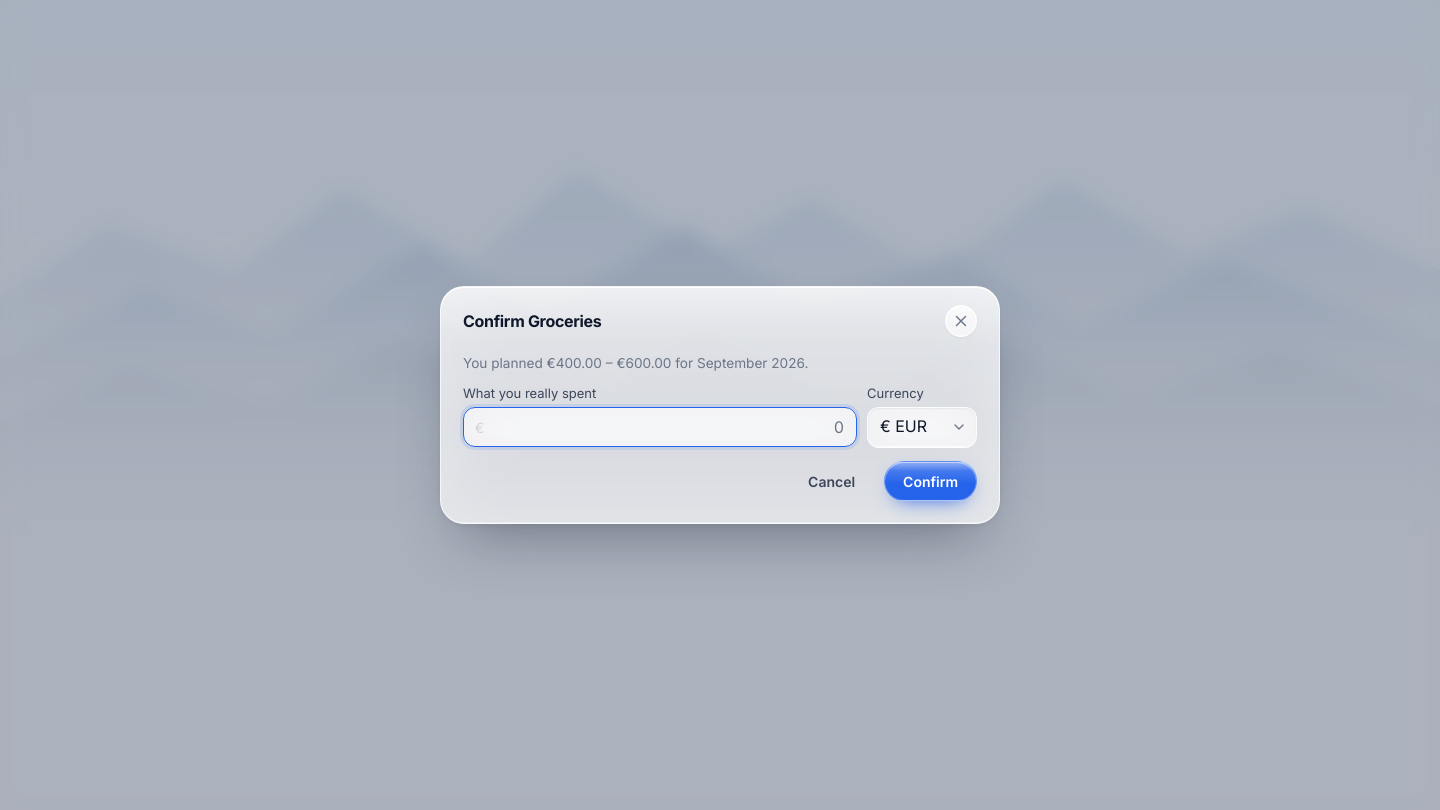
Test: ConfirmAmountModal › asks for an amount above zero before saving
The image size is (1440, 810).
What coordinates should you click on to do the following:
click the button "Confirm"
I would click on:
 (931, 481)
Its box is top-left (884, 461), bottom-right (977, 501).
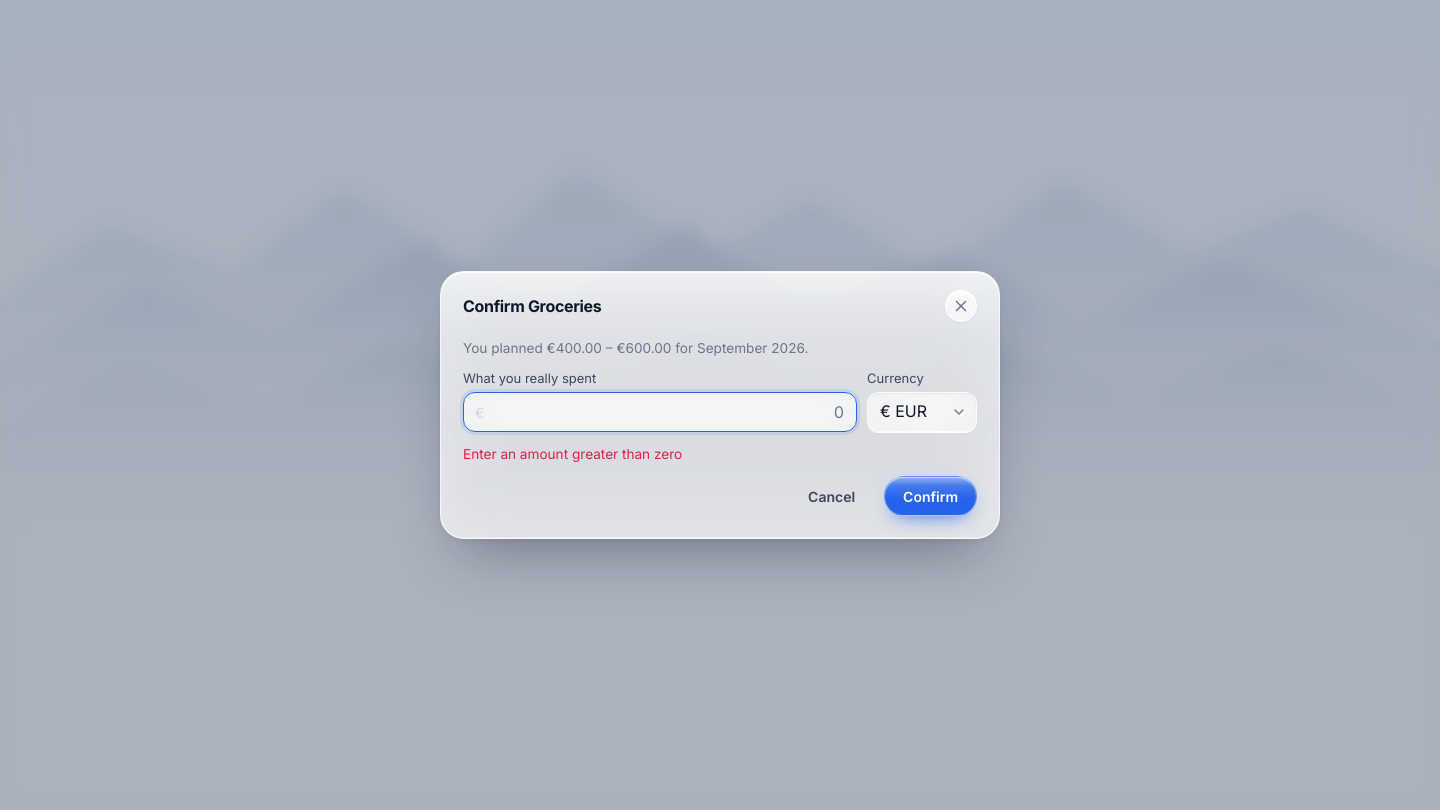
Expected: the text "Enter an amount greater than zero" is shown, top-left (463, 446), bottom-right (682, 462)
